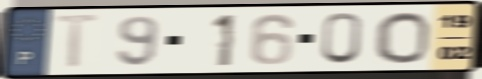0: (320, 11, 366, 66)
1: (210, 12, 239, 68)
6: (247, 11, 297, 67)
9: (113, 14, 162, 68)
O: (373, 10, 432, 66)
T: (50, 12, 106, 71)
